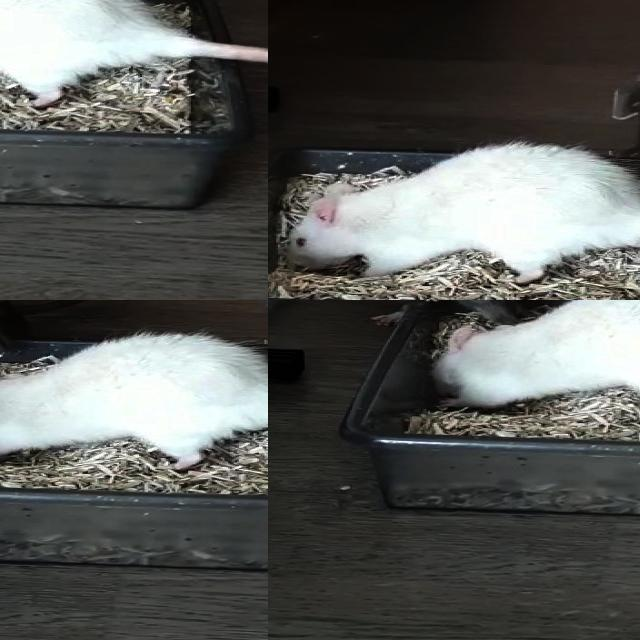rat: (285, 145, 640, 277), (0, 334, 268, 465), (428, 300, 640, 411), (0, 0, 161, 103), (369, 300, 535, 330)
